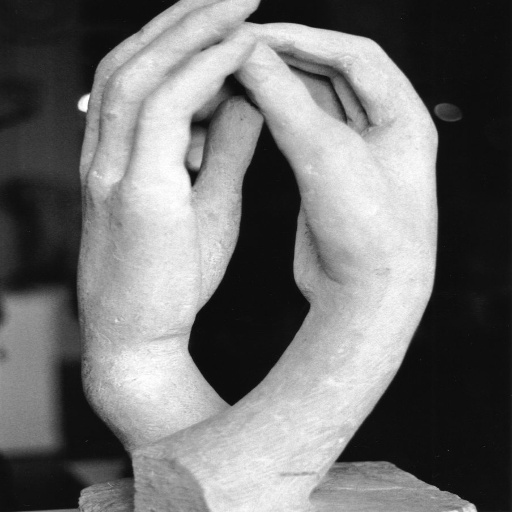hand: (73, 0, 262, 359), (223, 19, 438, 306)
